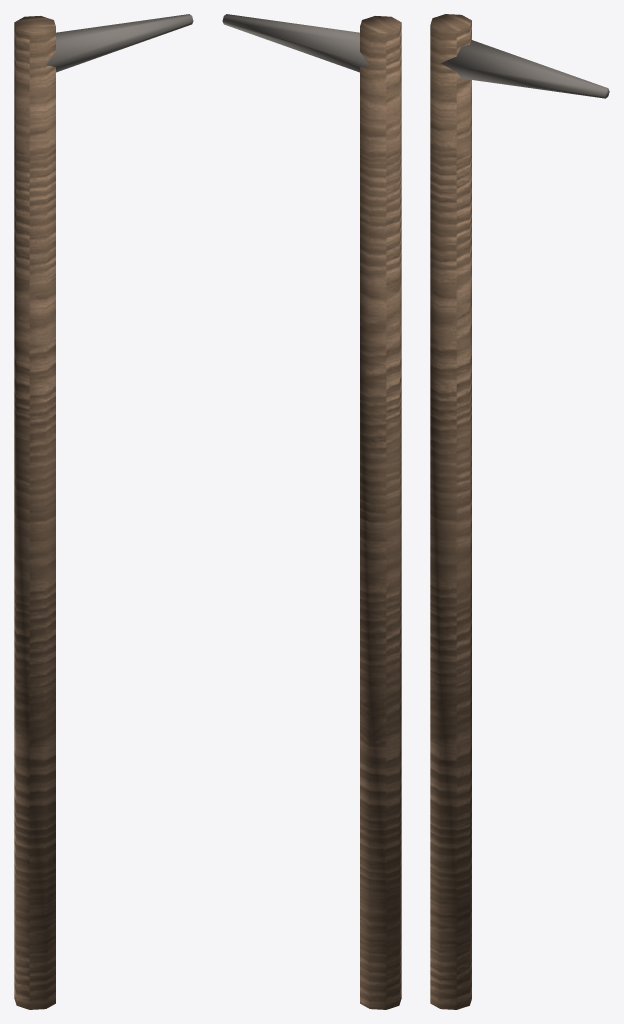
The model's file is improvised_pickaxe.glb.
The picture shows the model from 3 angles, left to right: view 1: azimuth 30°, elevation 25°; view 2: azimuth 150°, elevation 25°; view 3: azimuth 330°, elevation 25°; orthographic projection.
Parts seen in each view (by area): view 1: improvised_pickaxe; view 2: improvised_pickaxe; view 3: improvised_pickaxe.
Boxes of the visible parts, left/top/right/bottom form: improvised_pickaxe: left=14, top=14, right=193, bottom=1009; improvised_pickaxe: left=222, top=14, right=401, bottom=1009; improvised_pickaxe: left=430, top=14, right=609, bottom=1009.
Bounding box in the file's own units: 0.112 × 0.6 × 0.024.
2 materials, 1 textured.
